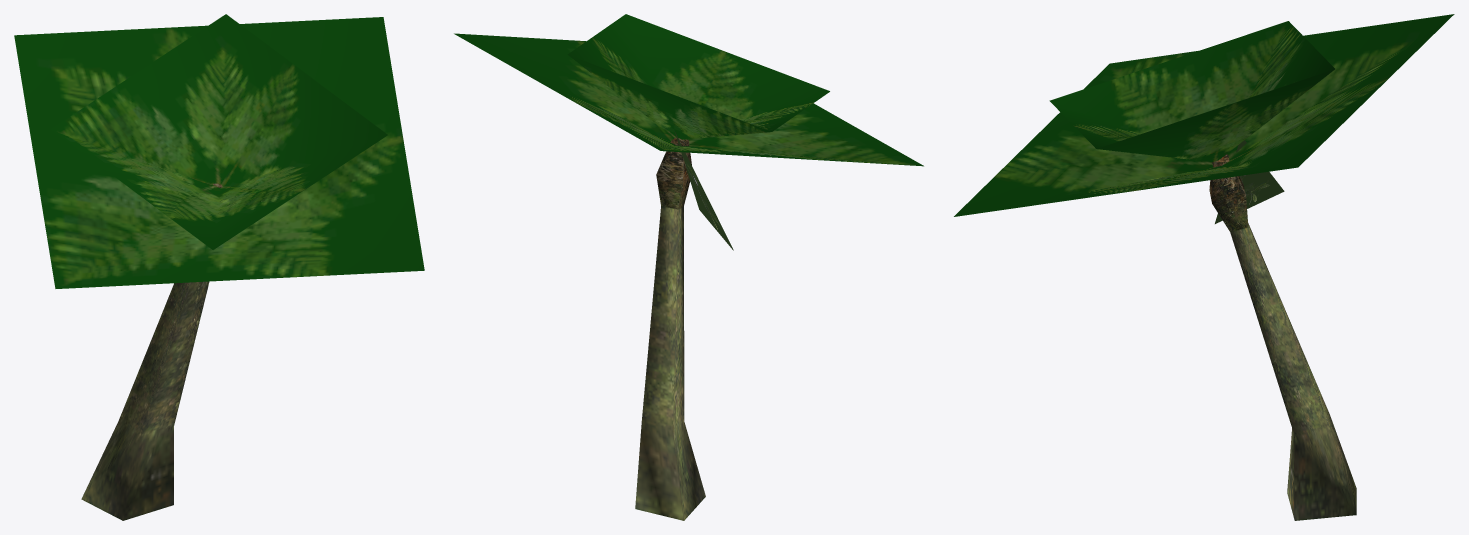
File: fern_ferntree_l1.fbx
The picture shows the model from 3 angles, left to right: view 1: azimuth 30°, elevation 25°; view 2: azimuth 150°, elevation 25°; view 3: azimuth 270°, elevation 25°; orthographic projection. The views are drawn at different scales.
Visible parts, largest first — view 1: mesh_node; view 2: mesh_node; view 3: mesh_node.
Boxes of the visible parts, x1,y1,x2,y2 form: mesh_node: (14, 14, 424, 520); mesh_node: (454, 14, 923, 520); mesh_node: (954, 14, 1454, 520).
Bounding box in the file's own units: 2.58 × 2.72 × 2.52.
2 materials, 2 textured.
